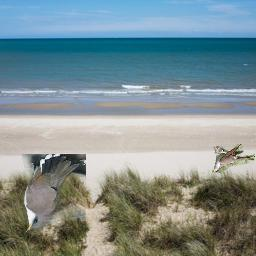Cuckoo: (22, 155, 86, 234), (213, 145, 256, 174)
